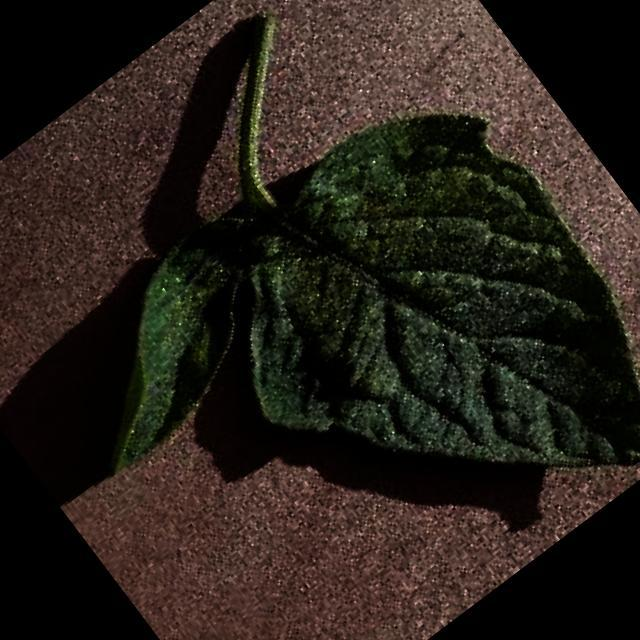Tomato spider mites leaf: (25, 47, 640, 640)
